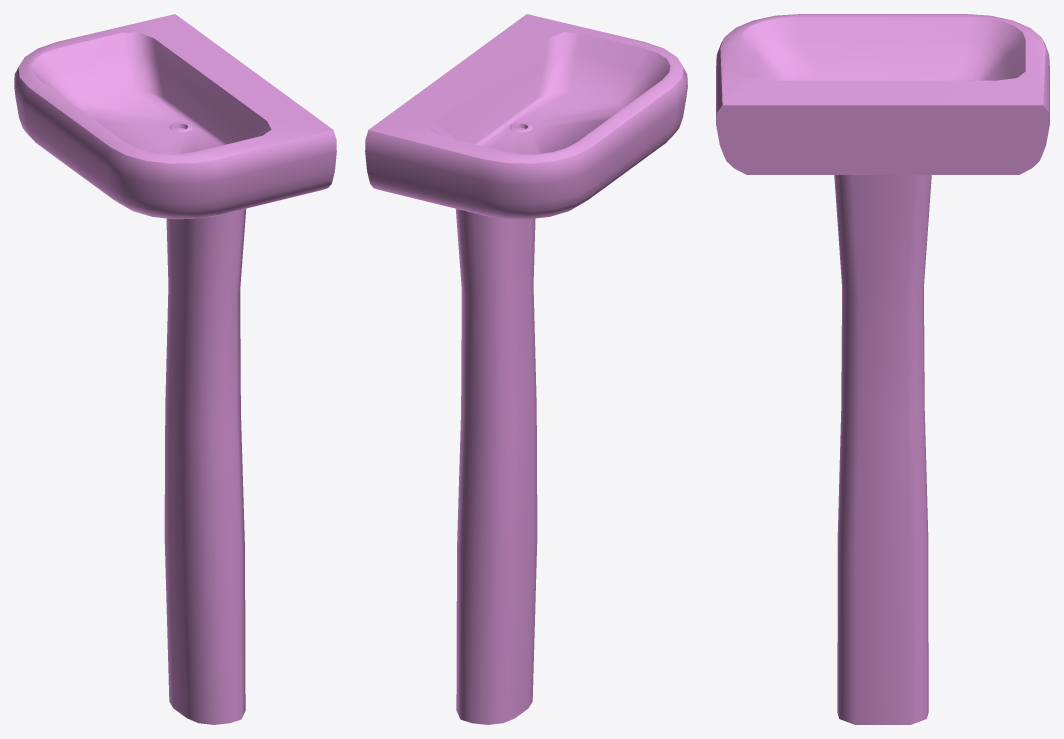
The model's file is Bacha.fbx.
The picture shows the model from 3 angles, left to right: view 1: azimuth 30°, elevation 25°; view 2: azimuth 150°, elevation 25°; view 3: azimuth 270°, elevation 25°; orthographic projection.
Parts seen in each view (by area): view 1: Bacha; view 2: Bacha; view 3: Bacha.
Boxes of the visible parts, x1,y1,x2,y2 form: Bacha: (14,14,336,724); Bacha: (365,14,687,724); Bacha: (716,14,1049,724).
Bounding box in the file's own units: 0.3287 × 1.04 × 0.4981.
